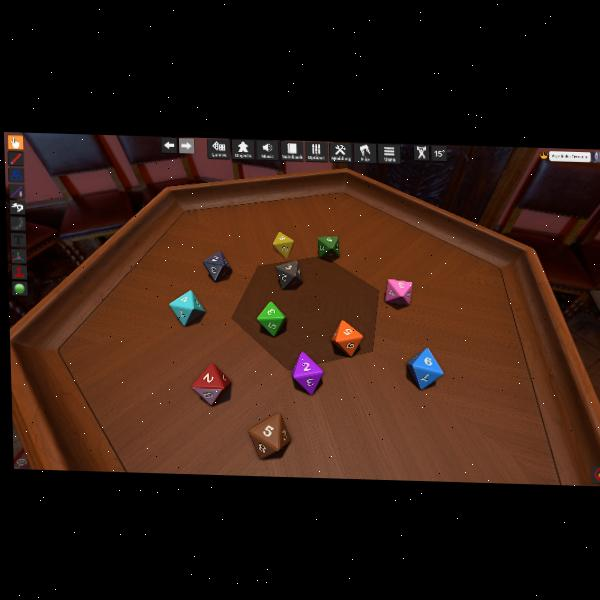d8: (248, 412, 291, 460), (191, 362, 232, 406), (408, 346, 443, 389), (291, 352, 323, 395), (169, 288, 205, 326), (331, 318, 362, 356), (257, 301, 287, 337), (202, 250, 232, 283), (276, 258, 303, 289), (384, 279, 411, 306), (272, 231, 294, 259), (317, 234, 339, 259)
